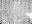person: (25, 12, 31, 19)
